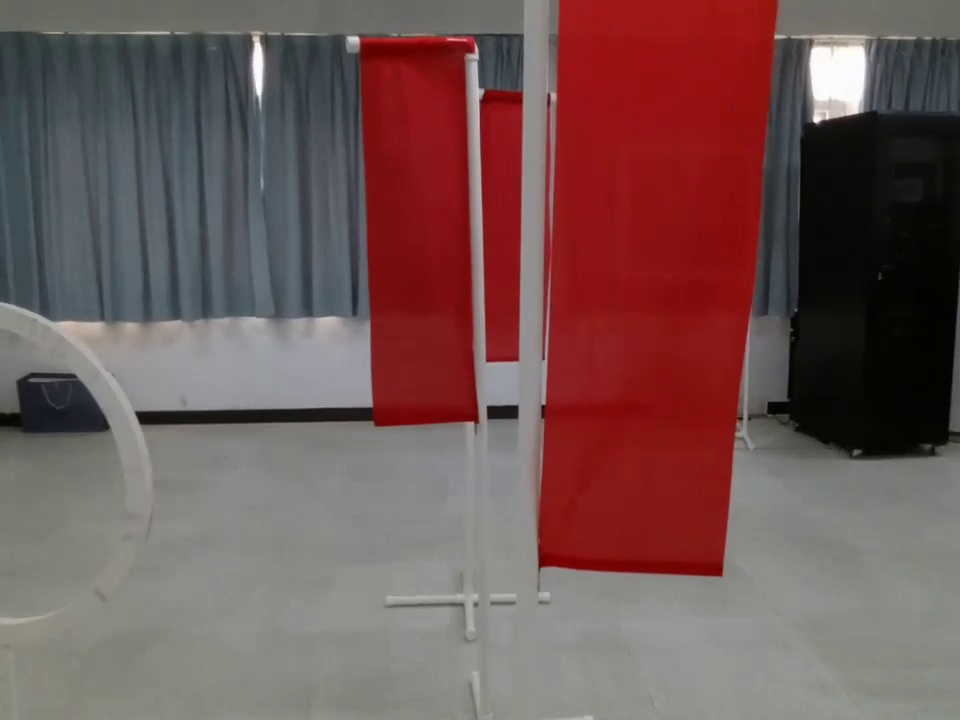qi: (519, 2, 771, 596), (337, 29, 491, 481)
quan: (2, 296, 156, 648)
